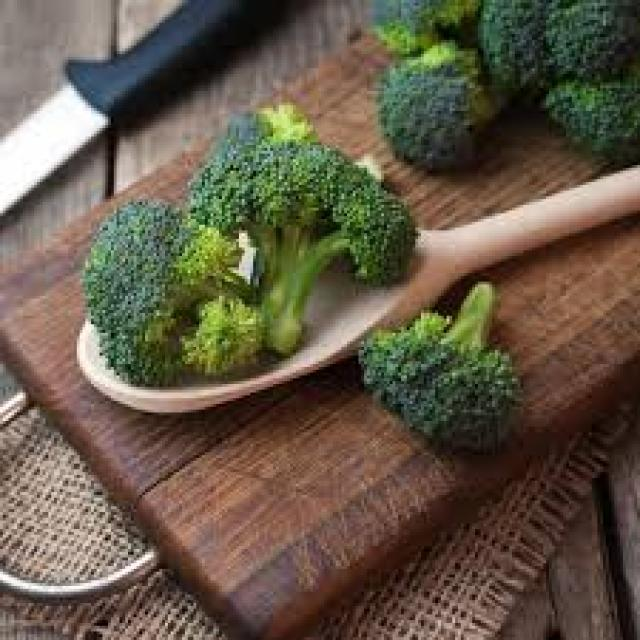broccoli: (75, 117, 402, 396), (364, 0, 640, 198), (362, 254, 534, 453)
